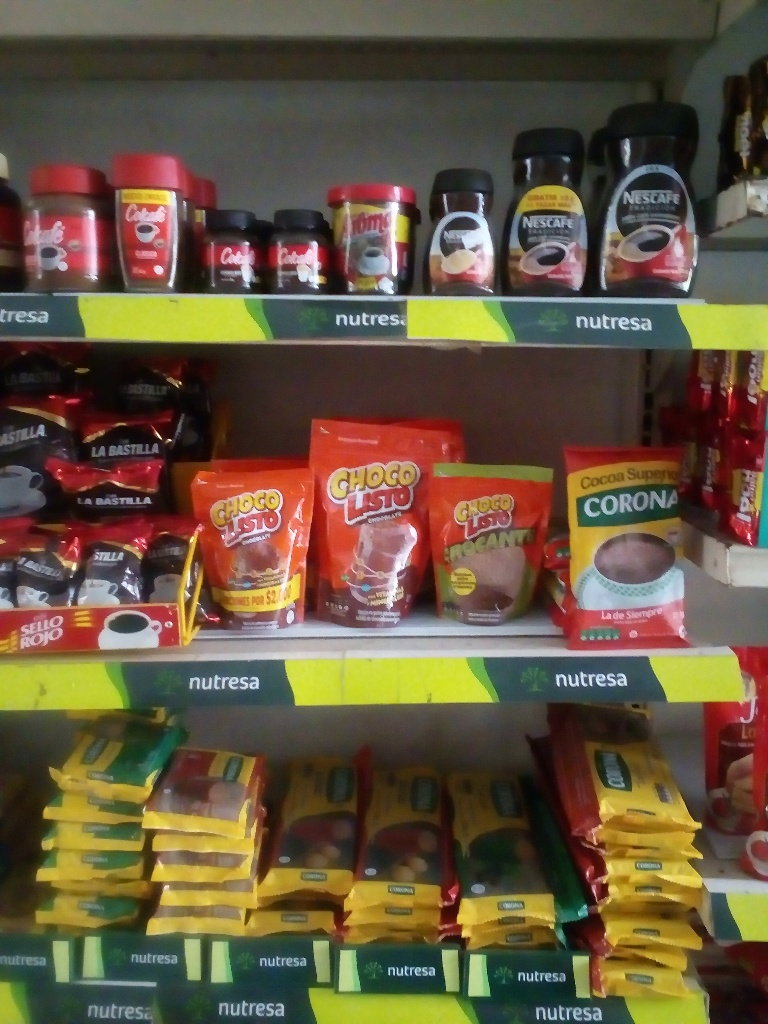COL0170102DYP10000: (435, 466, 560, 629)
COL0170103DYP10000: (196, 476, 315, 626)
COL0170103DYP20000: (315, 419, 452, 635)
